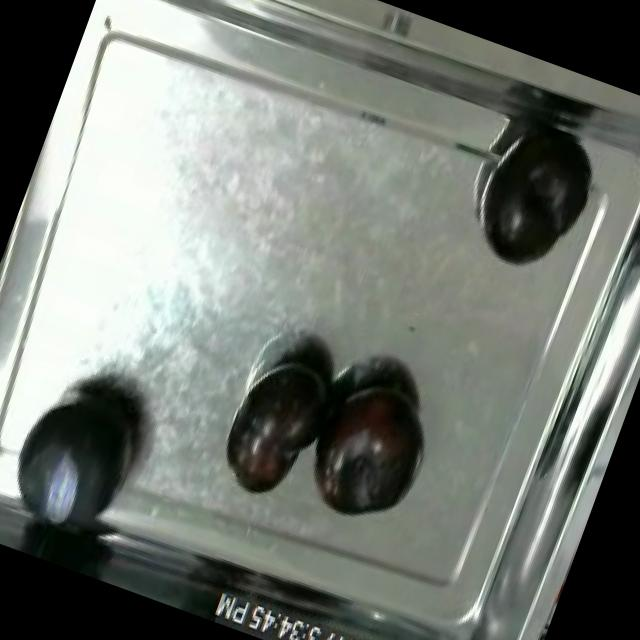Fruit: (0, 355, 169, 556), (454, 105, 614, 289), (291, 362, 446, 538), (207, 338, 352, 518)
